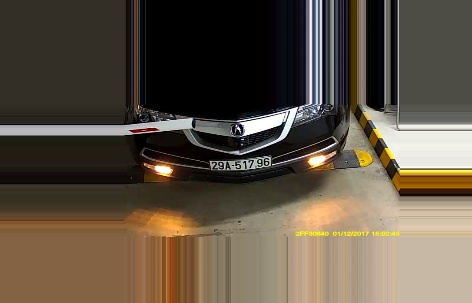plate: (207, 154, 273, 172)
